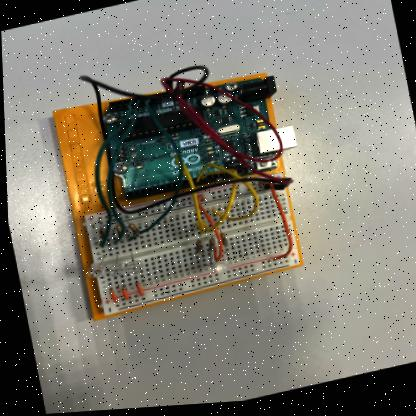5V: (159, 74, 298, 190)
ARDUINO: (97, 79, 280, 203)
Breadboard: (78, 175, 302, 320)
GND: (65, 64, 288, 224)
LED: (210, 263, 227, 277)
Long wire: (119, 96, 185, 242), (87, 101, 135, 252), (100, 99, 140, 247), (191, 162, 265, 226), (195, 170, 239, 238), (188, 196, 228, 265), (174, 154, 206, 238), (267, 186, 290, 264)
Phototransistor: (123, 250, 140, 277), (106, 254, 123, 279), (84, 264, 103, 279)
Resistor: (94, 225, 109, 247), (112, 224, 124, 244), (124, 221, 137, 238), (193, 241, 201, 257), (206, 238, 213, 253), (218, 235, 225, 248)
Short wire: (118, 288, 127, 301), (133, 285, 140, 298), (107, 292, 114, 304)
